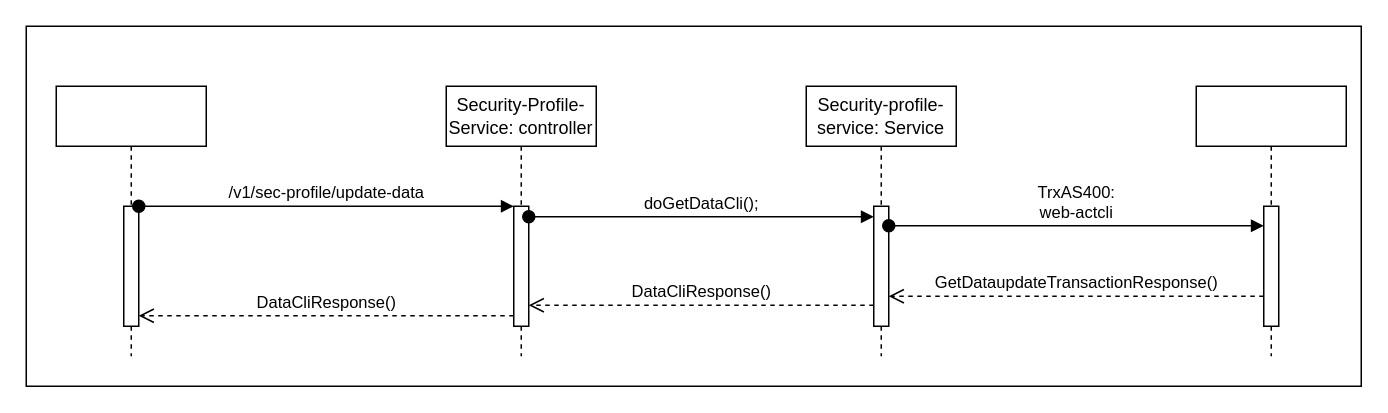
Image size: 1388x413. Some labels were removed from this diagram. The centre of each missing label's shape, as x and y in pixels:
"ApiGateway" goes at (x=130, y=220).
"Variable Status AS400" goes at (x=1270, y=220).
